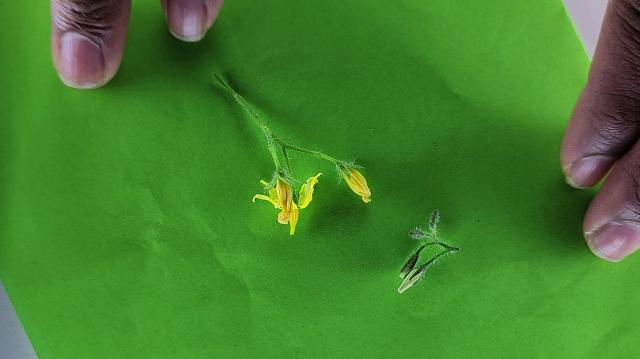Anthesis: (251, 173, 320, 236), (337, 164, 373, 204)
Flower Bud: (400, 251, 420, 279), (430, 209, 440, 230), (408, 229, 426, 240)
